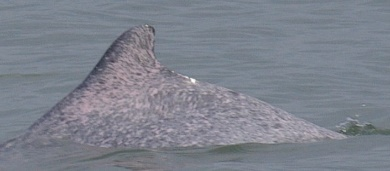fin: (17, 18, 363, 151)
